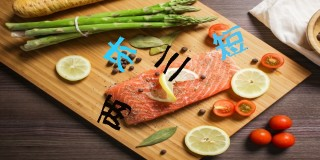搔: (184, 93, 219, 130)
痒: (53, 26, 88, 62)
隔: (240, 101, 275, 133)
靴: (211, 48, 248, 85)
